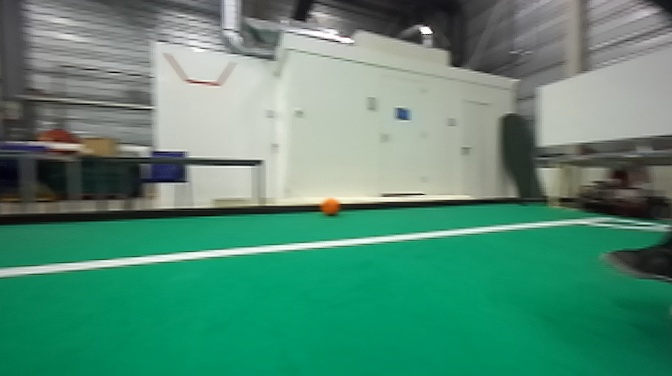ball: (319, 195, 344, 219)
